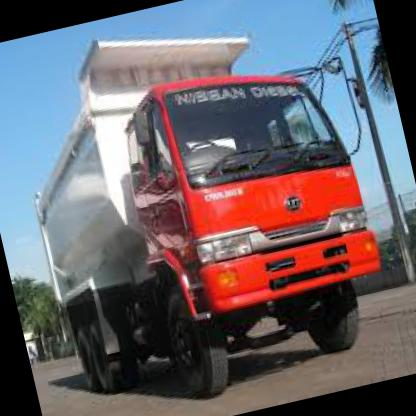truck: (110, 46, 402, 407)
